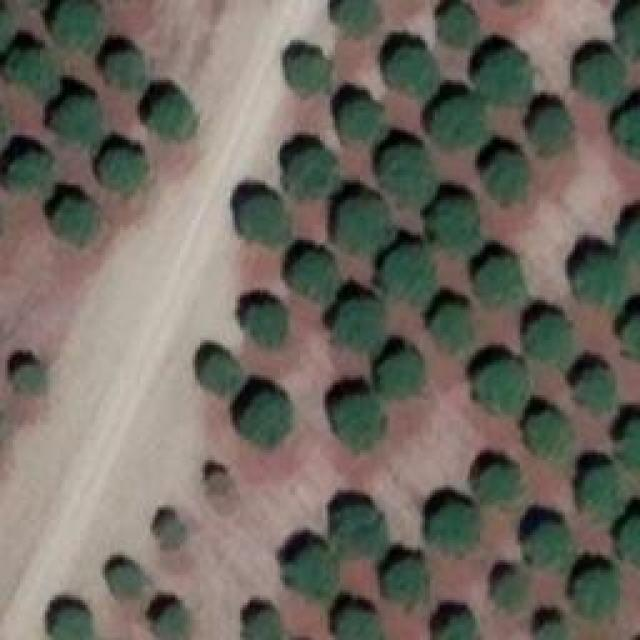Tree: (380, 245, 438, 305), (340, 197, 393, 255), (383, 148, 433, 208), (475, 50, 530, 103), (333, 298, 386, 353), (333, 395, 386, 448), (428, 503, 481, 556), (578, 255, 628, 310), (5, 50, 58, 100), (433, 97, 486, 145), (388, 48, 438, 98), (285, 148, 335, 198), (478, 360, 528, 410), (475, 258, 523, 308), (240, 195, 290, 243), (435, 200, 478, 255), (335, 507, 383, 555), (58, 0, 103, 50), (53, 98, 103, 143), (575, 55, 625, 100), (243, 395, 288, 445), (293, 255, 338, 303), (287, 550, 335, 595), (530, 110, 573, 158), (528, 318, 573, 363), (582, 468, 620, 521), (378, 353, 421, 398), (487, 155, 525, 205), (153, 95, 196, 138), (288, 53, 331, 96), (5, 155, 50, 195), (528, 523, 568, 566), (432, 308, 470, 353), (530, 413, 568, 458), (103, 150, 146, 188), (577, 368, 615, 411), (247, 303, 285, 346), (202, 353, 240, 396), (385, 560, 428, 598), (577, 570, 615, 613), (480, 465, 520, 505), (340, 100, 380, 138), (58, 198, 93, 241), (617, 102, 640, 165), (438, 8, 478, 43), (338, 0, 378, 35), (52, 605, 90, 640), (338, 610, 381, 640), (105, 53, 143, 86), (203, 473, 243, 503), (622, 0, 639, 62), (158, 605, 188, 640), (622, 512, 640, 570), (440, 615, 480, 640), (245, 612, 280, 640), (110, 565, 140, 595), (622, 220, 640, 268), (495, 575, 525, 603), (158, 515, 183, 548), (13, 365, 43, 390), (625, 312, 640, 360), (625, 423, 640, 468), (540, 622, 565, 640)
